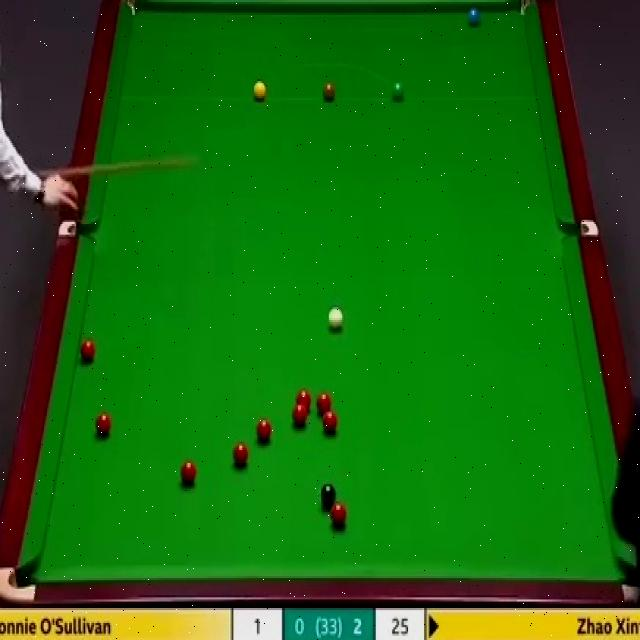black-ball: (319, 482, 337, 513)
blue-ball: (466, 4, 483, 30)
brown-ball: (322, 82, 337, 104)
green-ball: (391, 81, 405, 104)
red-ball: (92, 408, 112, 441), (232, 442, 250, 472), (330, 502, 347, 532), (256, 420, 274, 446), (179, 459, 197, 485), (78, 338, 95, 364), (291, 404, 308, 429), (322, 409, 338, 434), (295, 389, 312, 412), (316, 392, 332, 413)
white-ball: (324, 304, 346, 336)
yellow-ball: (253, 80, 267, 103)
